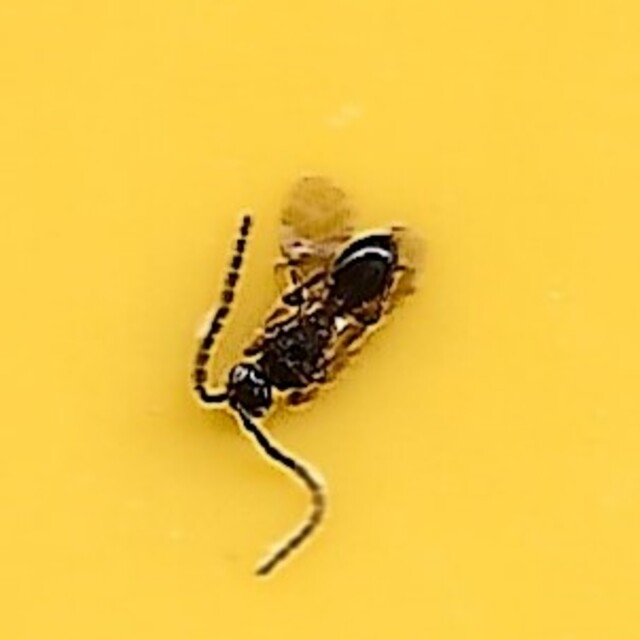Hymenoptera: (212, 214, 428, 426)
